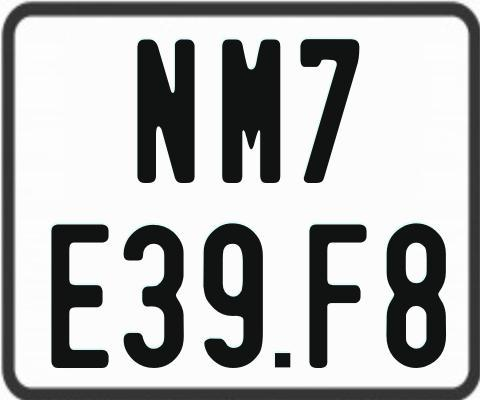3: (124, 225, 189, 374)
7: (297, 38, 362, 188)
8: (386, 220, 450, 369)
9: (203, 221, 268, 366)
E: (50, 224, 114, 368)
F: (309, 224, 371, 373)
M: (222, 40, 284, 186)
N: (136, 39, 194, 183)
